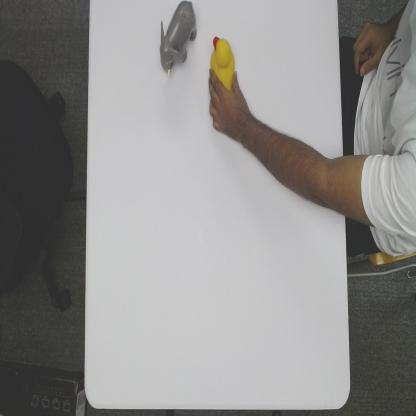Arm: (248, 114, 345, 217)
Duck: (209, 33, 237, 92)
Elephant: (158, 0, 198, 78)
Hand: (207, 65, 249, 141)
